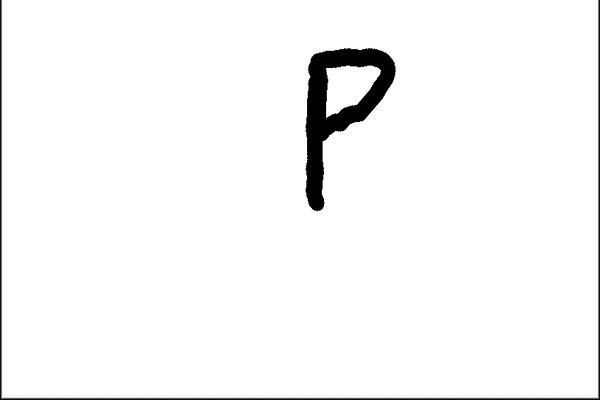P: (287, 38, 401, 217)
